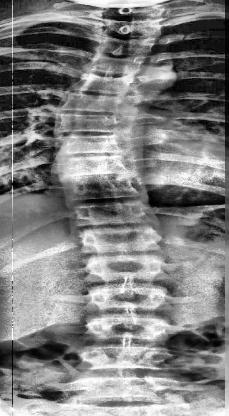Vertebrae: (82, 340, 174, 376), (86, 311, 172, 345), (86, 252, 170, 282), (80, 225, 164, 253), (87, 286, 169, 312), (67, 202, 155, 226), (64, 178, 142, 202), (54, 152, 132, 176), (60, 90, 124, 116), (84, 55, 144, 81), (93, 34, 155, 58), (71, 73, 131, 97), (57, 135, 125, 156), (54, 113, 122, 134), (100, 18, 162, 40)
